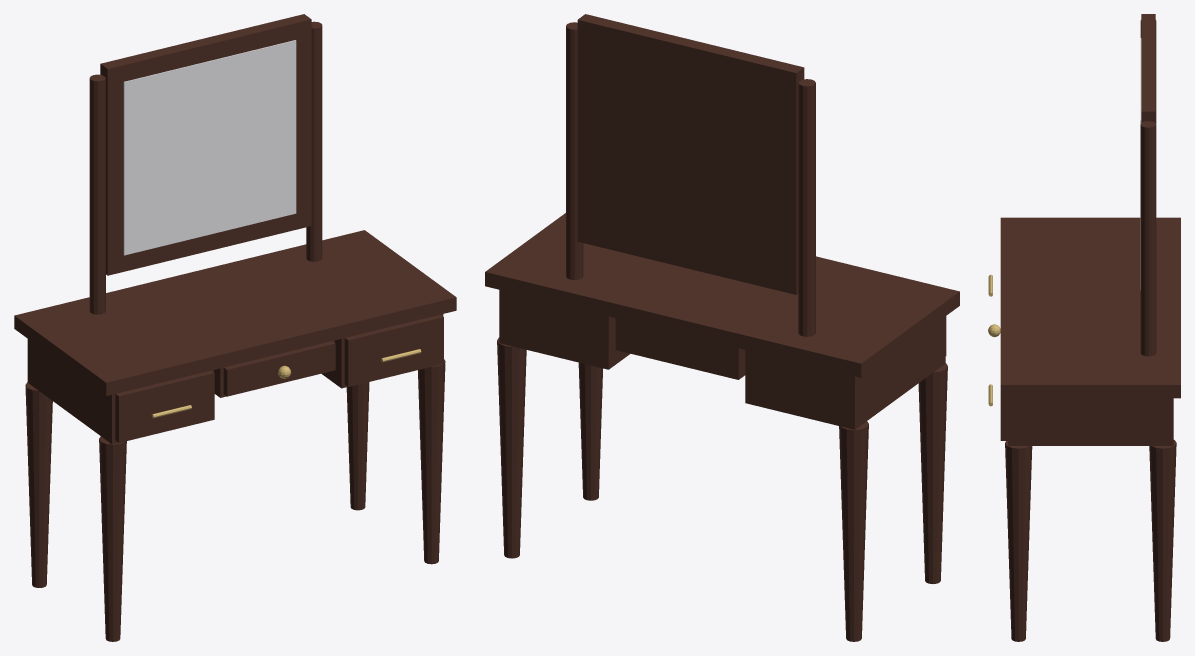
The model's file is SM_Furniture_Vanity_01.glb.
3 views of the same model, side by side, from view 1: azimuth 30°, elevation 25°; view 2: azimuth 150°, elevation 25°; view 3: azimuth 270°, elevation 25° (orthographic). The views are drawn at different scales.
Parts seen in each view (by area): view 1: SM_Furniture_Vanity_01; view 2: SM_Furniture_Vanity_01; view 3: SM_Furniture_Vanity_01.
Part boxes in pixels (x1,y1,x2,y2): SM_Furniture_Vanity_01: [14, 14, 456, 641]; SM_Furniture_Vanity_01: [485, 14, 959, 641]; SM_Furniture_Vanity_01: [988, 14, 1180, 641].
Size of the model in its own units: 1.1 by 1.53 by 0.535.
